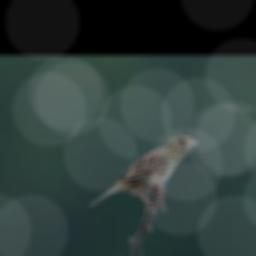Sparrow: (87, 133, 197, 213)
